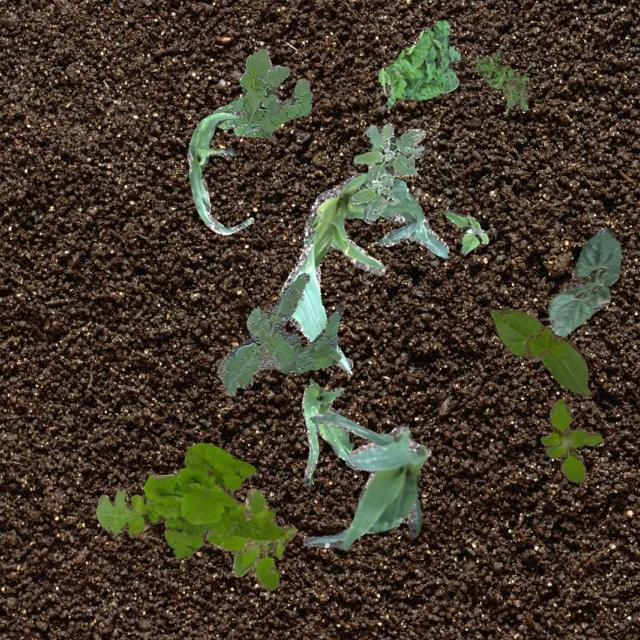crop: (280, 172, 448, 374), (302, 411, 429, 548), (490, 308, 590, 396), (186, 110, 252, 233), (546, 227, 620, 336), (300, 378, 352, 486)
weed: (94, 442, 284, 558), (216, 272, 342, 396), (205, 488, 296, 590), (212, 46, 312, 136), (348, 121, 424, 222), (376, 20, 459, 109), (540, 398, 600, 482), (474, 51, 528, 110), (444, 208, 488, 252)
